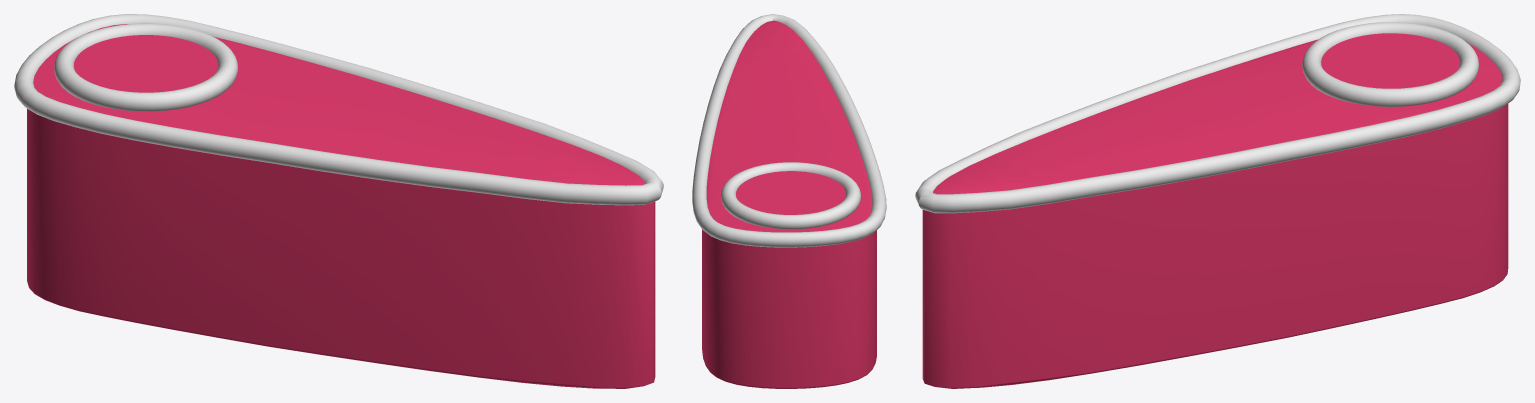
File: Flipper.fbx
3 views of the same model, side by side, from view 1: azimuth 30°, elevation 25°; view 2: azimuth 150°, elevation 25°; view 3: azimuth 270°, elevation 25° (orthographic). The views are drawn at different scales.
Visible parts, largest first — view 1: Cube.004; view 2: Cube.004; view 3: Cube.004.
Part boxes in pixels (<box>): Cube.004: <box>14,14,663,388</box>; Cube.004: <box>692,14,886,388</box>; Cube.004: <box>915,14,1520,388</box>.
Bounding box in the file's own units: 55.88 × 28.9 × 76.35.
